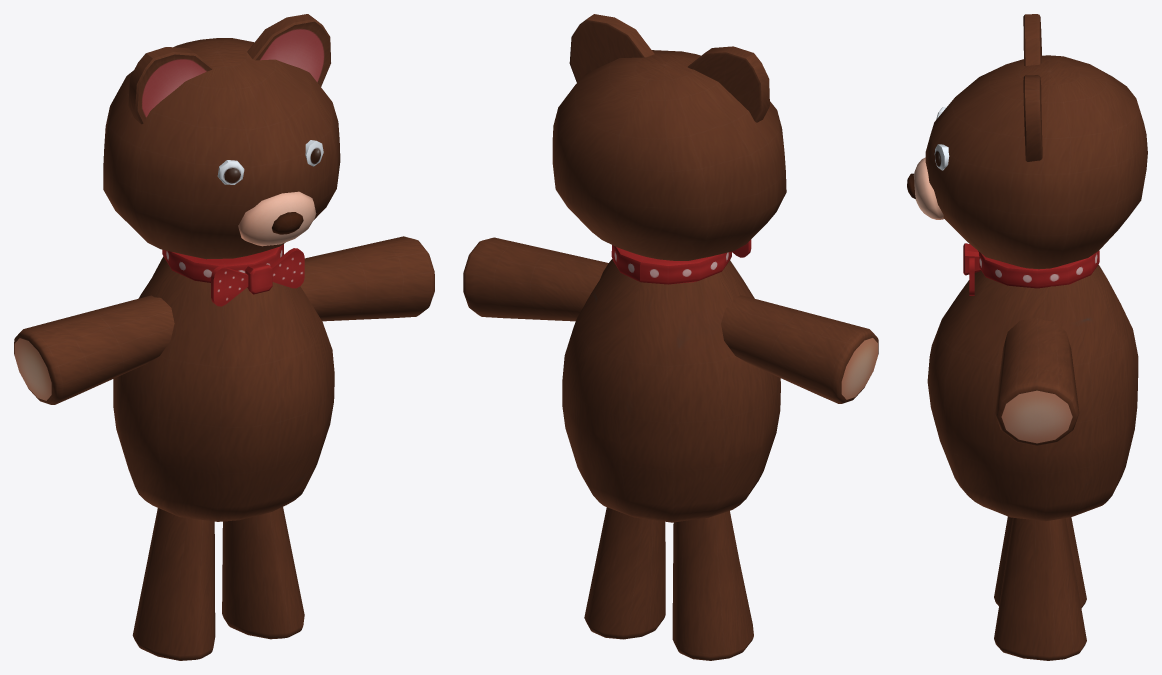
File: Alchimist_001.fbx
The picture shows the model from 3 angles, left to right: view 1: azimuth 30°, elevation 25°; view 2: azimuth 150°, elevation 25°; view 3: azimuth 270°, elevation 25°; orthographic projection. The views are drawn at different scales.
Parts seen in each view (by area): view 1: Alchimist_001; view 2: Alchimist_001; view 3: Alchimist_001.
Part boxes in pixels (bbox=[...]): Alchimist_001: bbox=[14, 14, 434, 660]; Alchimist_001: bbox=[463, 14, 878, 660]; Alchimist_001: bbox=[907, 14, 1147, 660].
Bounding box in the file's own units: 125 × 184 × 69.37.
